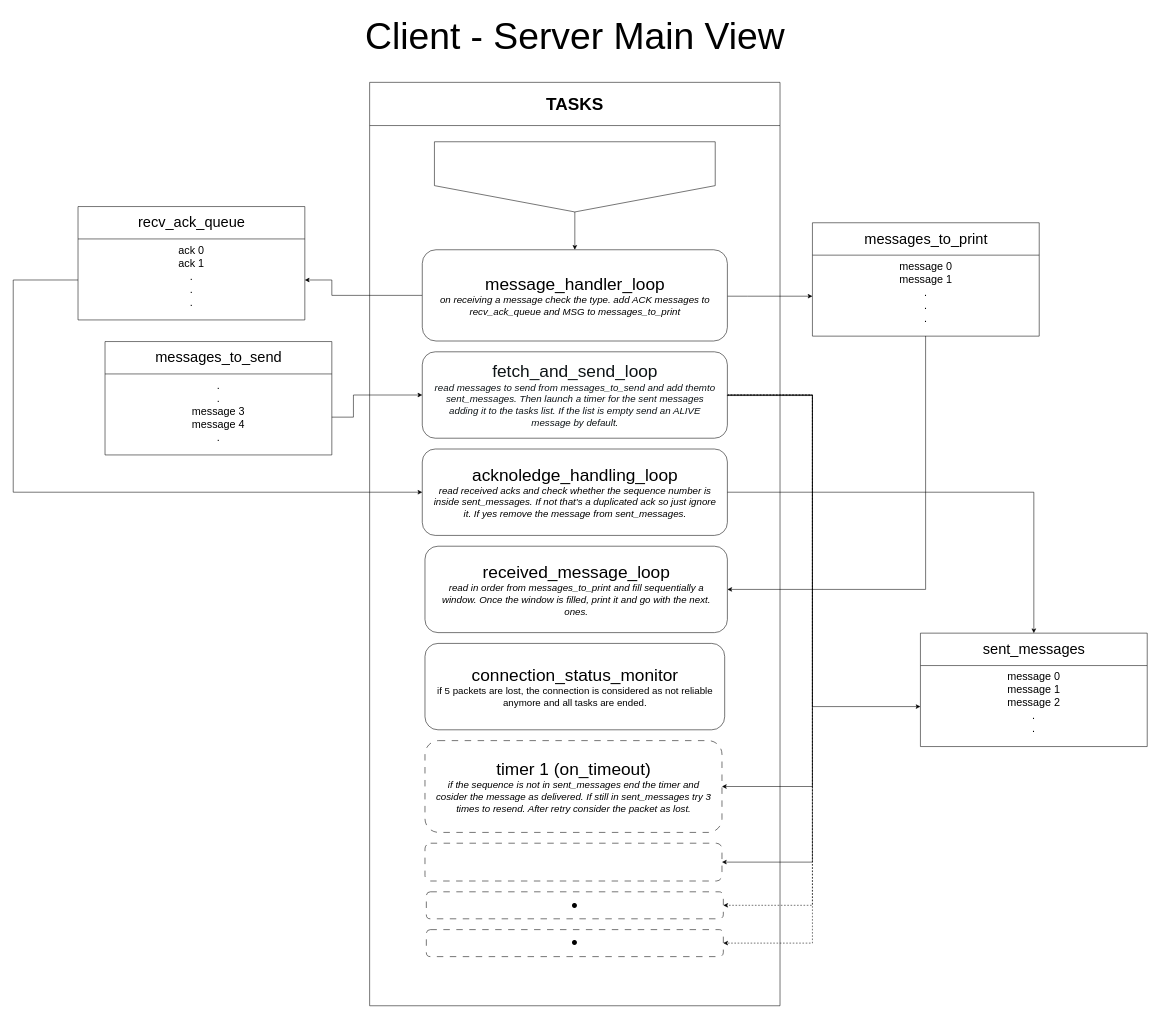
The diagram is 1157 pixels wide and 1015 high, and some of its shapes have lost their labels. The shapes that lost their labels are listed below. From the top down, each one's centre as x and y in pixels, then its label:
(574,176): UDP SOCKET
(573,862): timer 2
